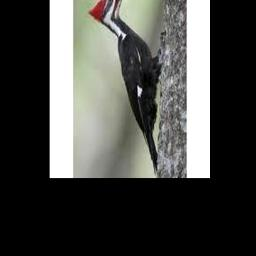Woodpecker: (87, 0, 162, 174)
